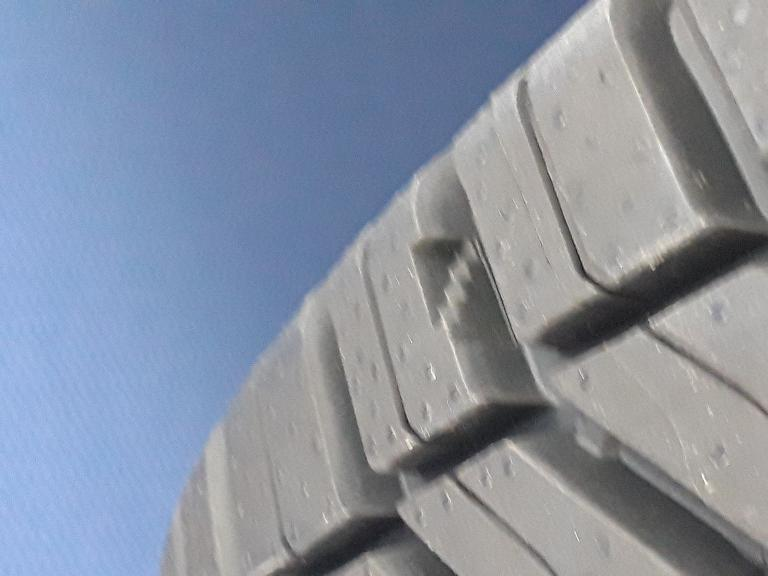temoin:100: (402, 228, 518, 349)
